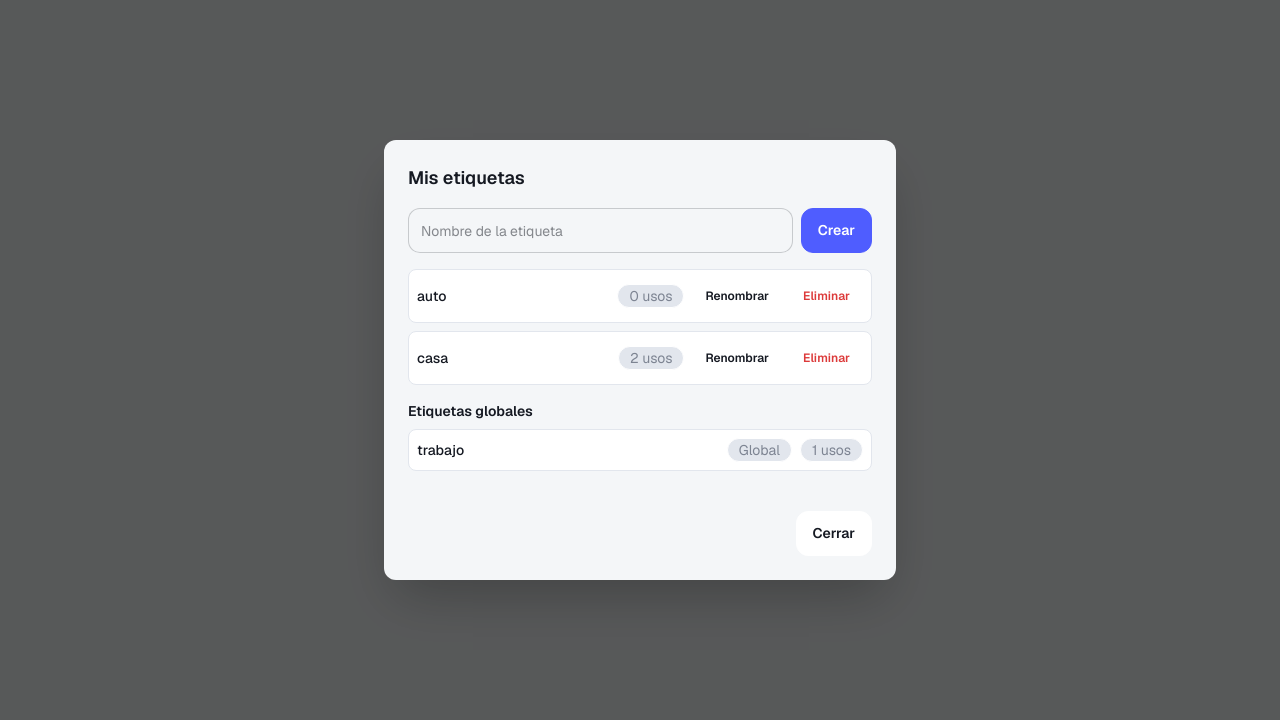
PrivateTagsDialog › avisa cuando se reutiliza una global (RF-22)
This screenshot has width=1280, height=720.
Expected: the text "casa" is shown, 417,349 -> 448,367
In the field named "Nueva etiqueta": x=600, y=230 408,208 -> 793,253, type "trabajo"
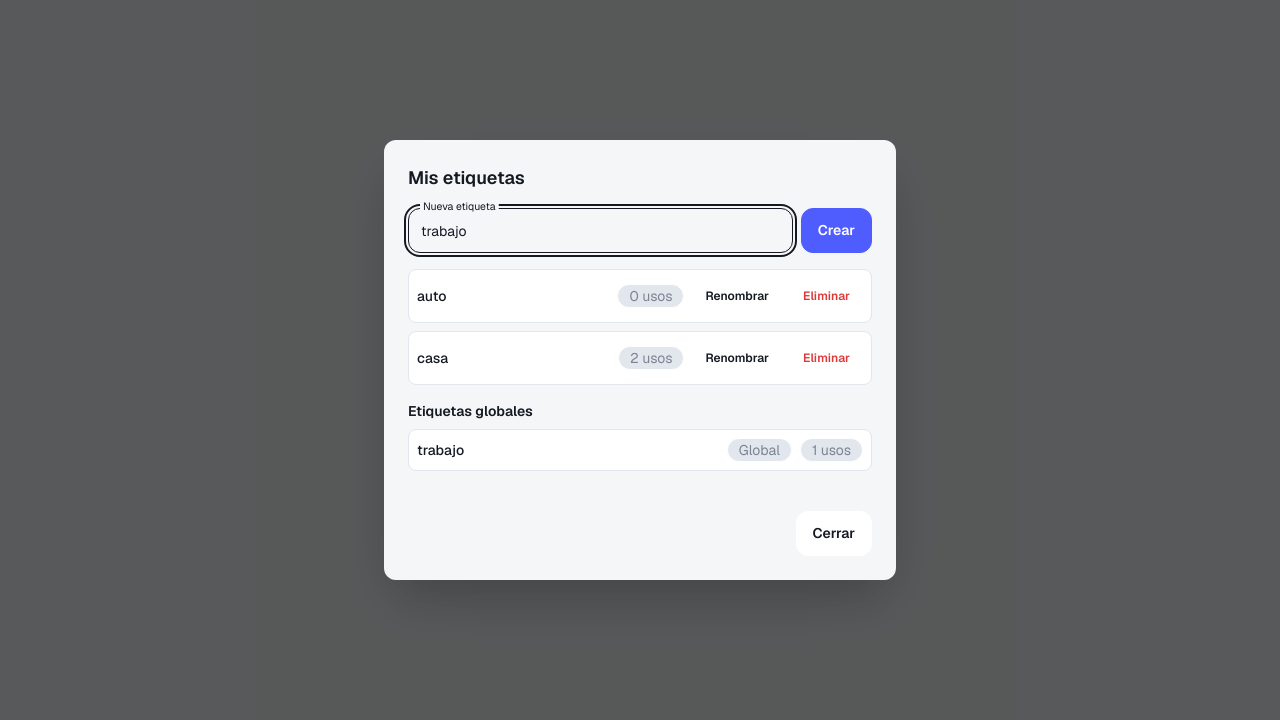
Click the button "Crear": x=836, y=230 801,208 -> 872,253
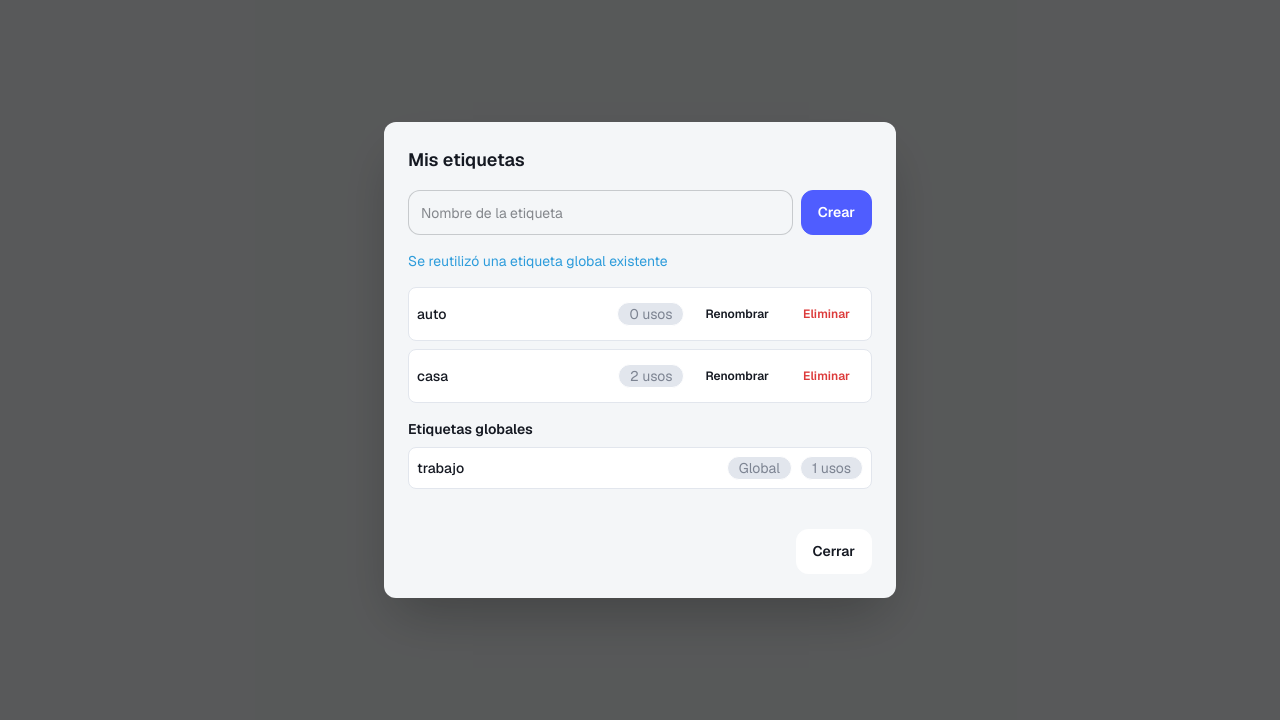
Expected: the message reads "Se reutilizó una etiqueta global existente", 408,252 -> 668,270
